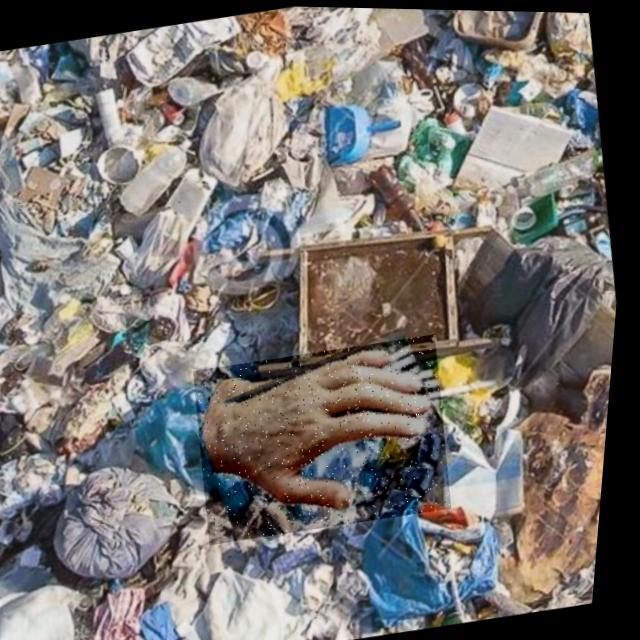Person in Rubble: (188, 328, 471, 548)
